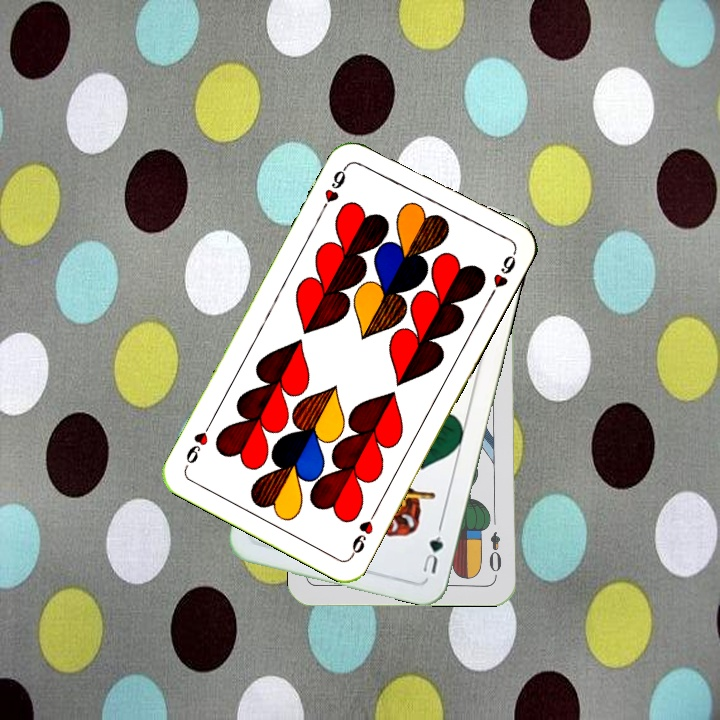EO: (484, 528, 504, 575)
GU: (418, 522, 446, 576)
H9: (317, 160, 352, 215), (347, 505, 380, 560)
